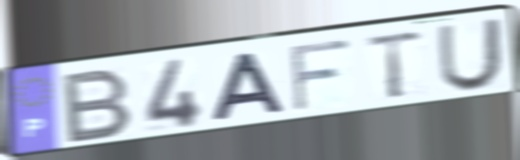4: (142, 56, 205, 131)
A: (209, 49, 289, 125)
B: (61, 65, 136, 146)
F: (287, 36, 353, 116)
T: (364, 27, 426, 102)
U: (435, 15, 504, 94)
